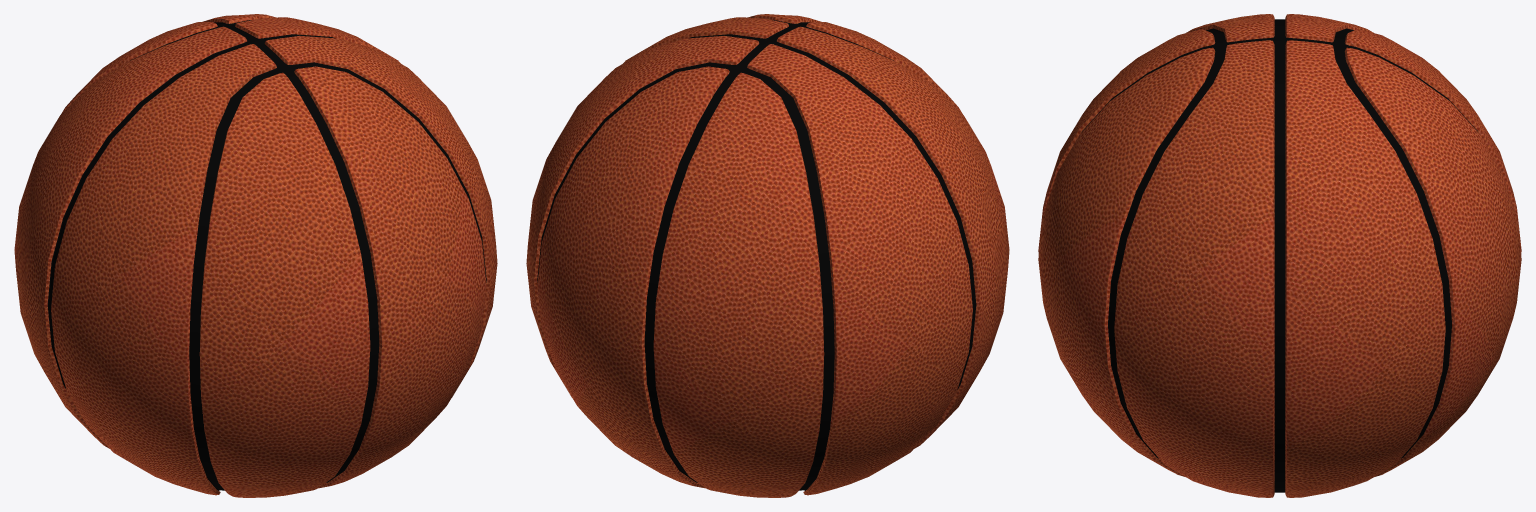
The model's file is basketball-ball.glb.
3 renders of one model, left to right at view 1: azimuth 30°, elevation 25°; view 2: azimuth 150°, elevation 25°; view 3: azimuth 270°, elevation 25°, orthographic.
Parts seen in each view (by area): view 1: Ball; view 2: Ball; view 3: Ball.
Part boxes in pixels (x1,y1,x2,y2): Ball: [14, 14, 497, 497]; Ball: [526, 14, 1009, 497]; Ball: [1038, 14, 1521, 497].
Size of the model in its own units: 0.2523 by 0.2511 by 0.2523.
Materials: 1 (1 with a texture image).
